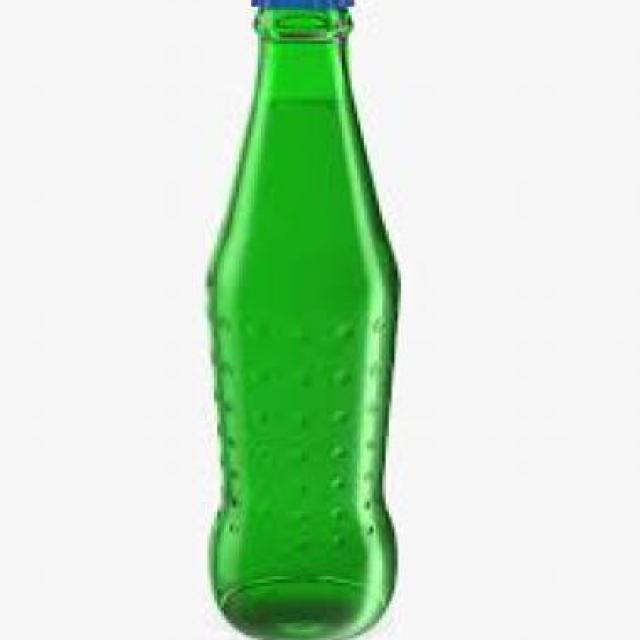kaca: (210, 3, 400, 640)
